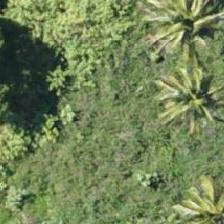coconut_tree: (148, 54, 223, 144), (149, 0, 223, 63), (175, 164, 223, 223)
